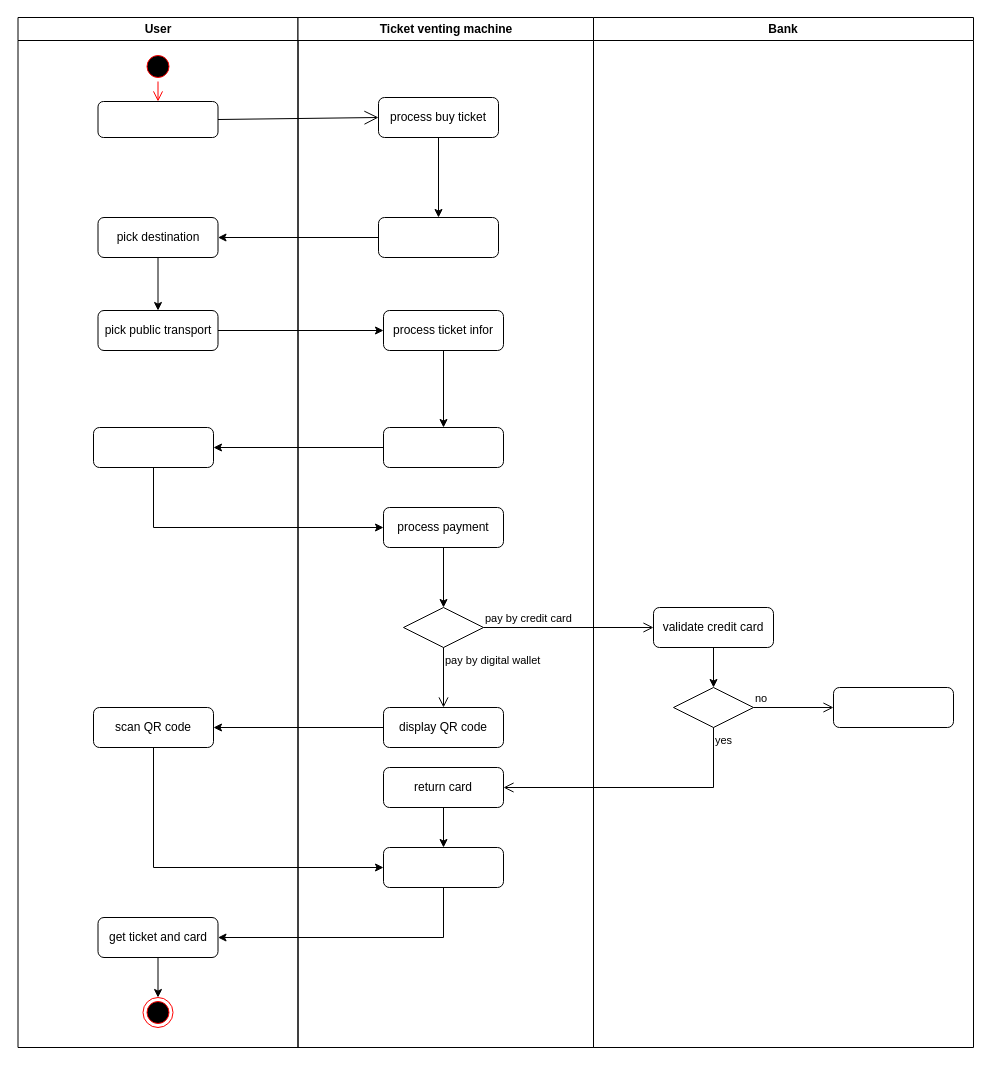
Image size: 991x1065. Some labels were removed from this diagram. Each missing label, with the centre of its shape:
check valid: point 713,707
dispense ticket: point 443,867
request buy ticket: point 157,119
request payment: point 443,447
request ticket infor: point 438,237
select payment method: point 153,447
show error and return card: point 893,707
